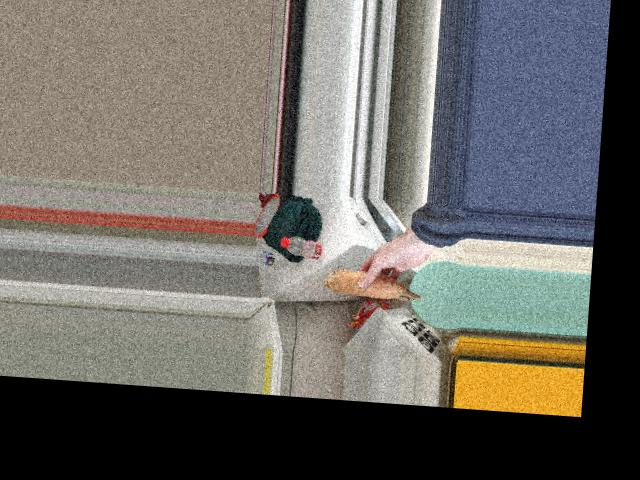sweet_potato: (319, 262, 421, 307)
